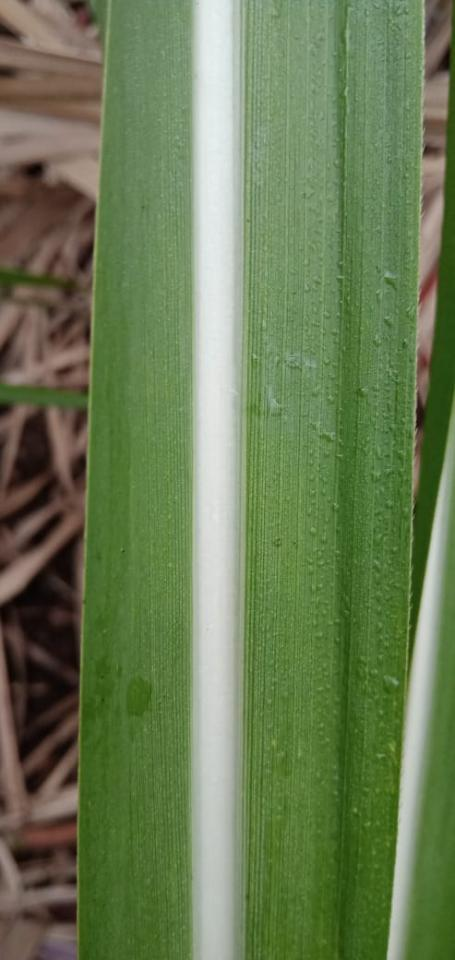Healthy: (79, 0, 422, 959), (390, 392, 454, 959)
